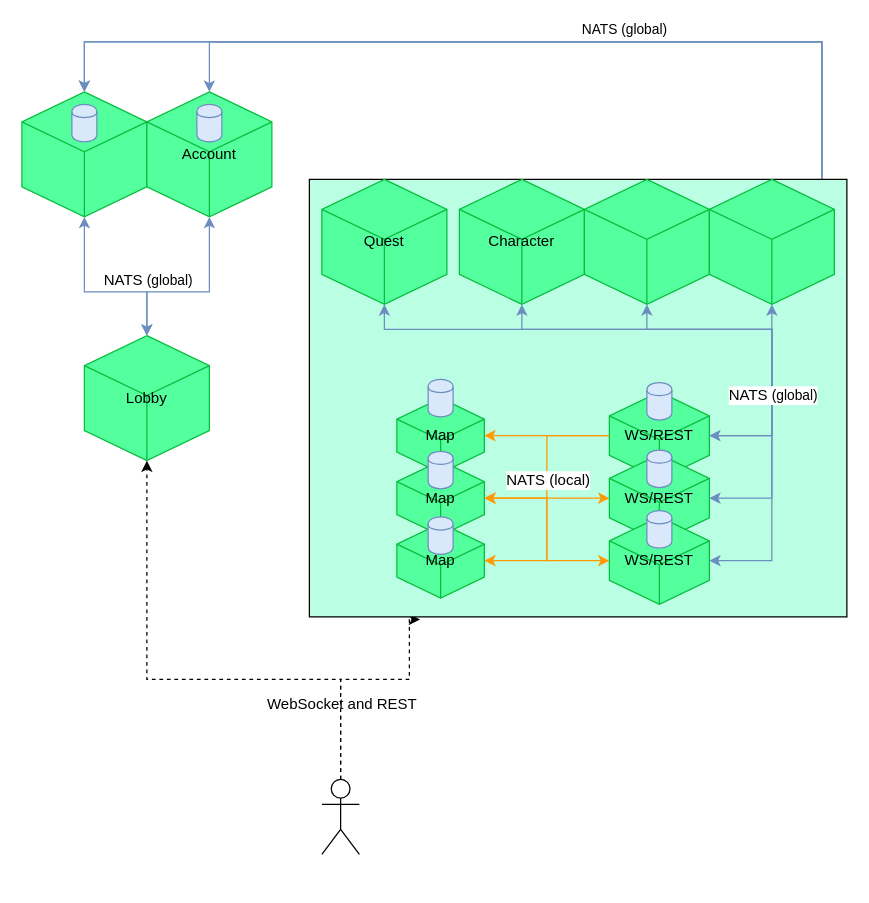
The diagram is 869 pixels wide and 903 high, and some of its shapes have lost their labels. The box of each missing label's shape, as (x1, y1, x2, y2) in pixels:
Actor: (321, 778, 359, 854)
Chat: (708, 178, 834, 304)
Commerce: (583, 178, 709, 304)
Presence: (21, 91, 147, 217)
World Instance: (308, 178, 847, 617)
